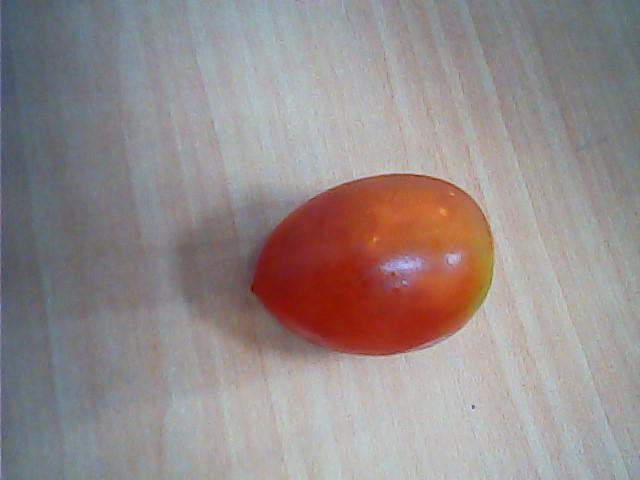verde: (247, 171, 497, 359)
